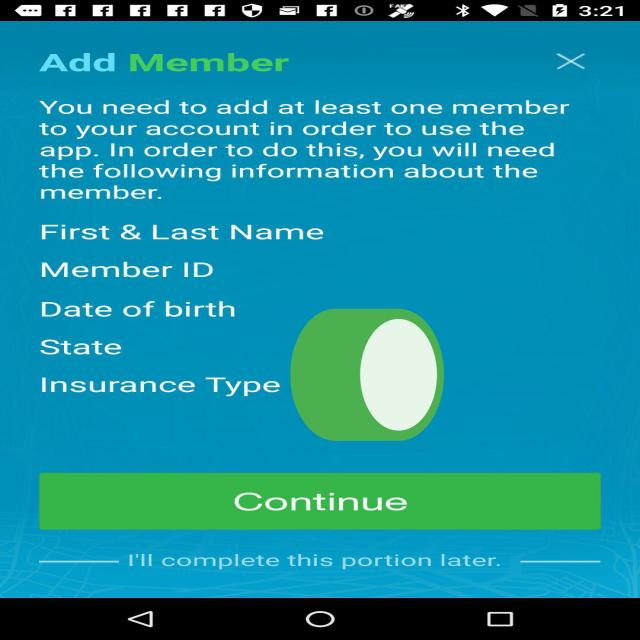social proof: (283, 258, 451, 502)
